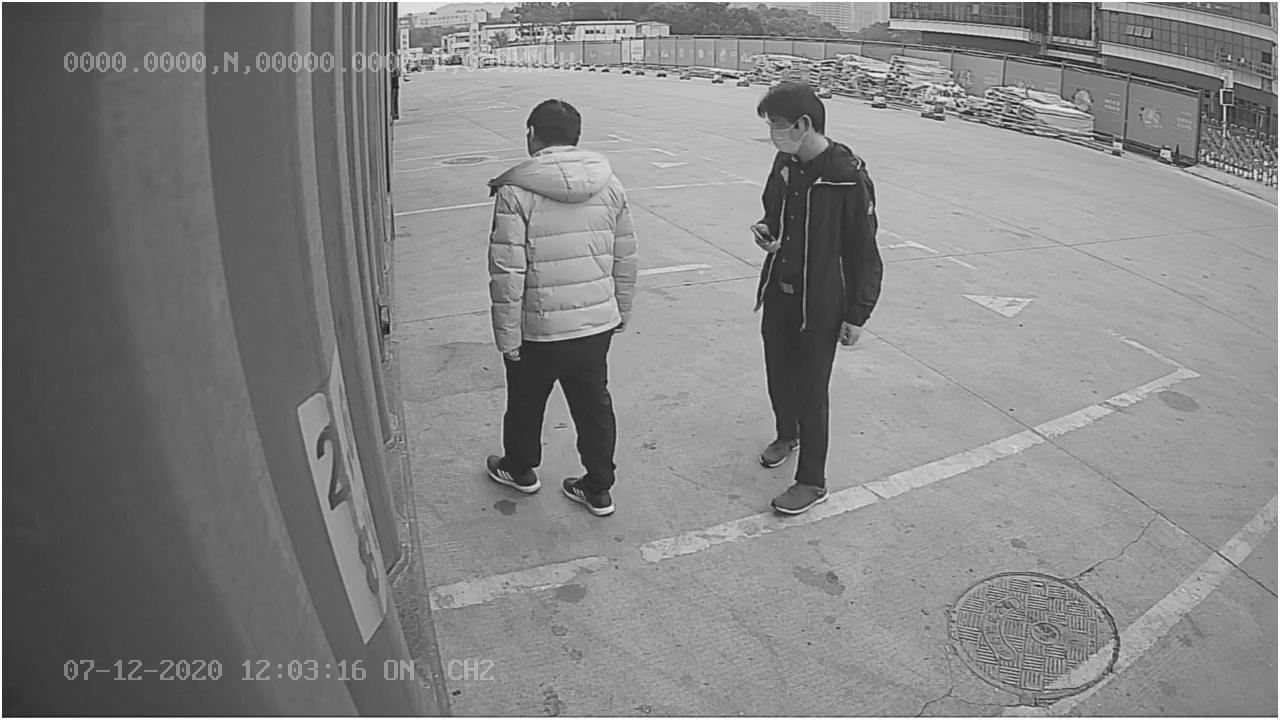person: (469, 95, 645, 517), (735, 81, 882, 513)
